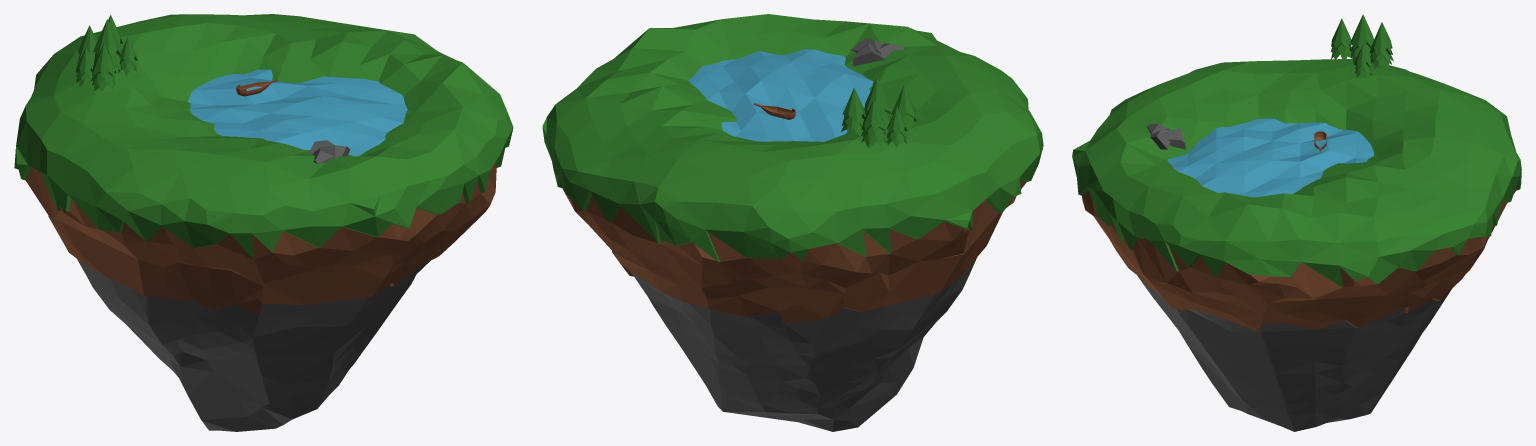
Rendered from islandone.glb.
The picture shows the model from 3 angles, left to right: view 1: azimuth 30°, elevation 25°; view 2: azimuth 150°, elevation 25°; view 3: azimuth 270°, elevation 25°; orthographic projection. The views are drawn at different scales.
Parts seen in each view (by area): view 1: Island; view 2: Island; view 3: Island.
Boxes of the visible parts, x1=… form: Island: x1=14, y1=14, x2=513, y2=431; Island: x1=542, y1=14, x2=1043, y2=431; Island: x1=1072, y1=14, x2=1521, y2=431.
Size of the model in its own units: 1.41 by 1.26 by 1.43.
